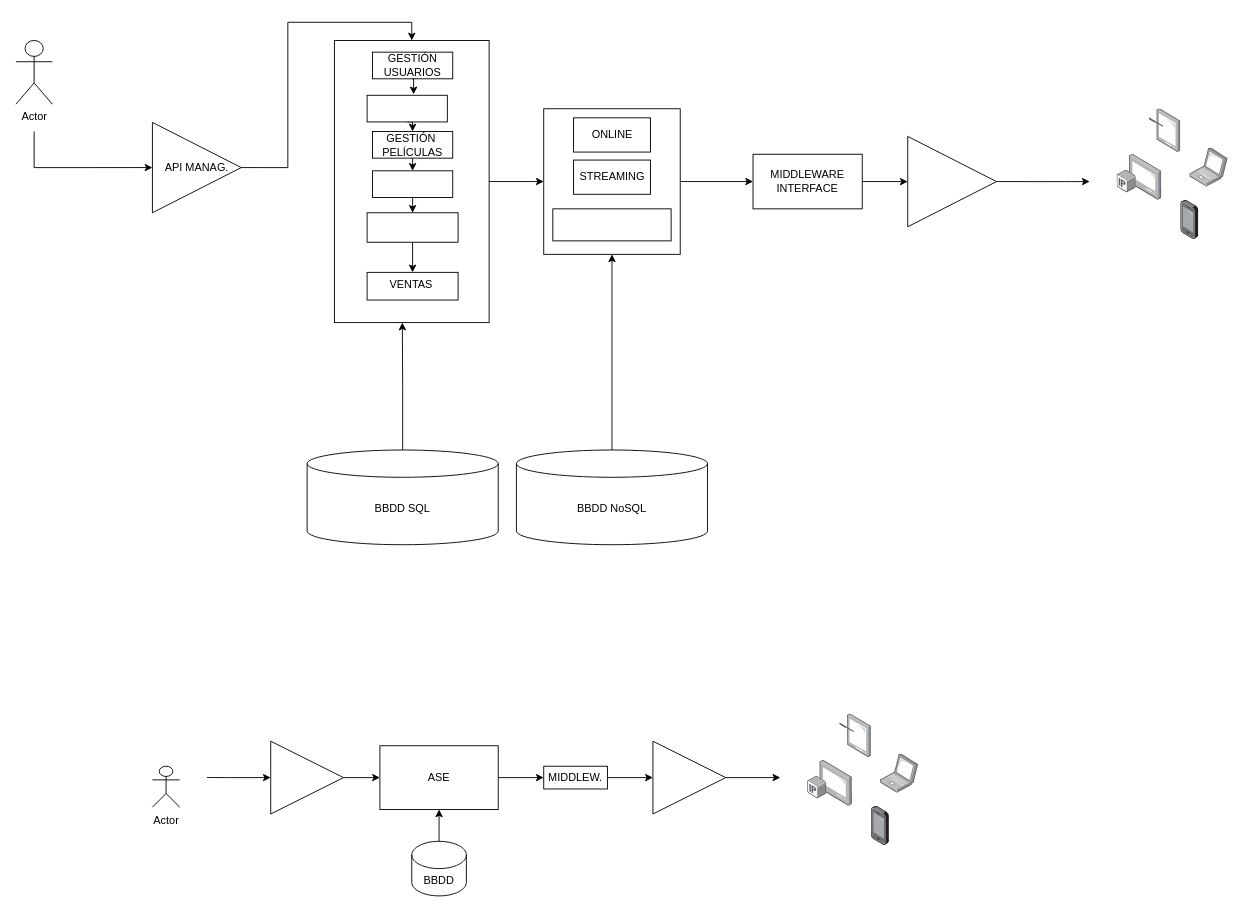
The diagram is 1244 pixels wide and 912 high, and some of its shapes have lost their labels. Each missing label, with the centre of its shape:
"API G." belongs at point 689,777.
"API GATEWAY" belongs at point 952,181.
"API M." belongs at point 307,777.
"CENSURA" belongs at point 412,183.
"EXCHANGE" belongs at point 412,227.
"PAÍSES" belongs at point 406,108.
"RECOMENDACIONES" belongs at point 611,224.
